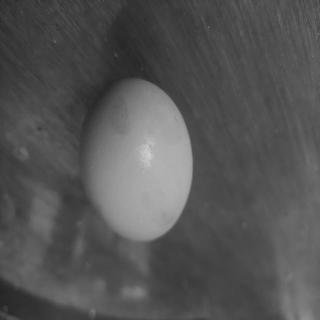Telur: (77, 75, 198, 247)
